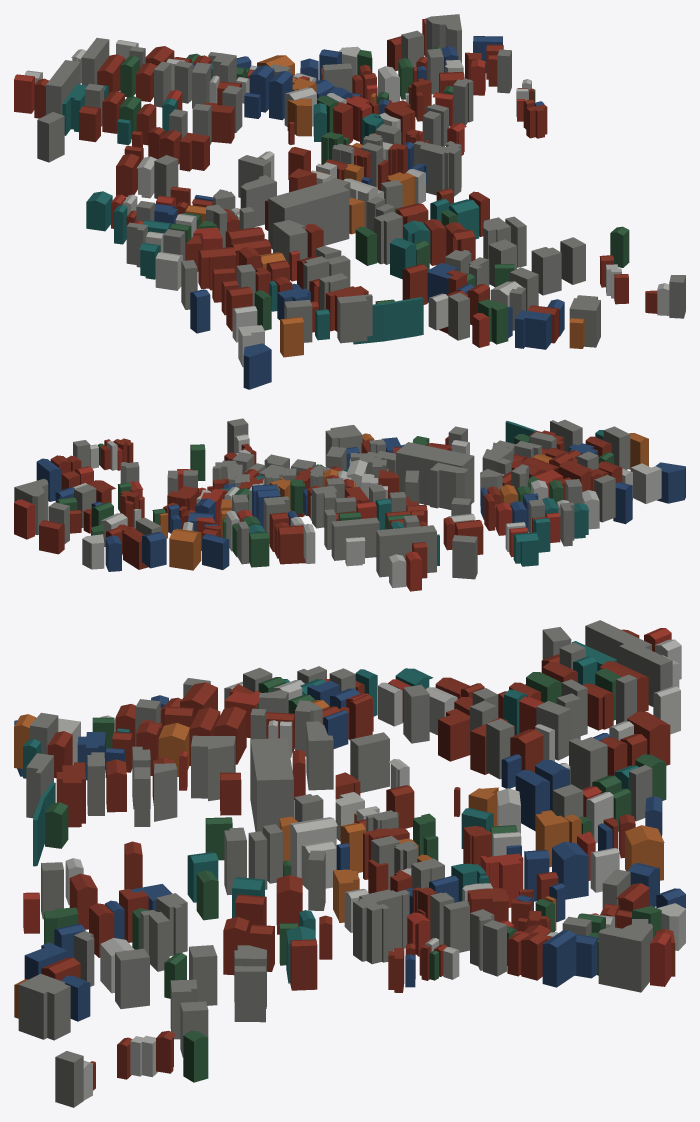
The model's file is near-17-109447-59472.91466982.glb.
3 renders of one model, top to bottom at view 1: azimuth 30°, elevation 25°; view 2: azimuth 150°, elevation 25°; view 3: azimuth 270°, elevation 25°, orthographic. The views are drawn at different scales.
Bounding box in the file's own units: 309 × 115 × 302.
